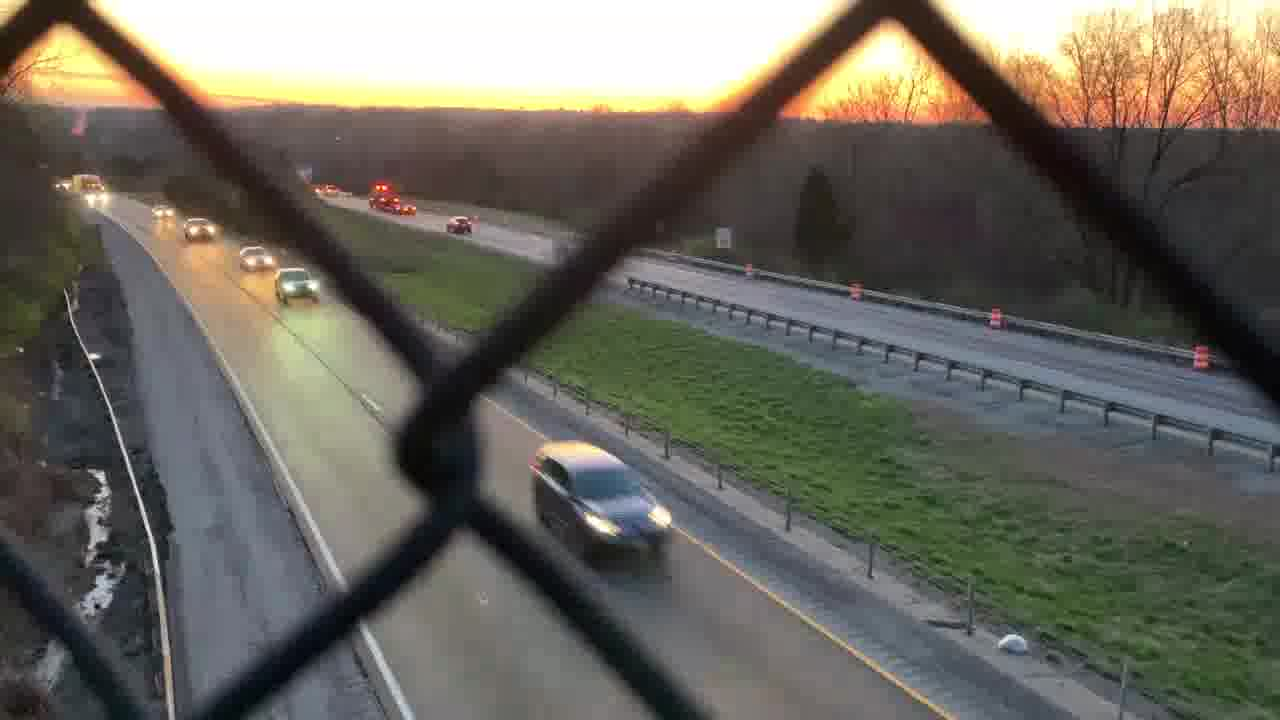heavyTruck: (366, 183, 412, 216)
largeCar: (528, 437, 676, 554)
smallCar: (235, 244, 277, 271)
